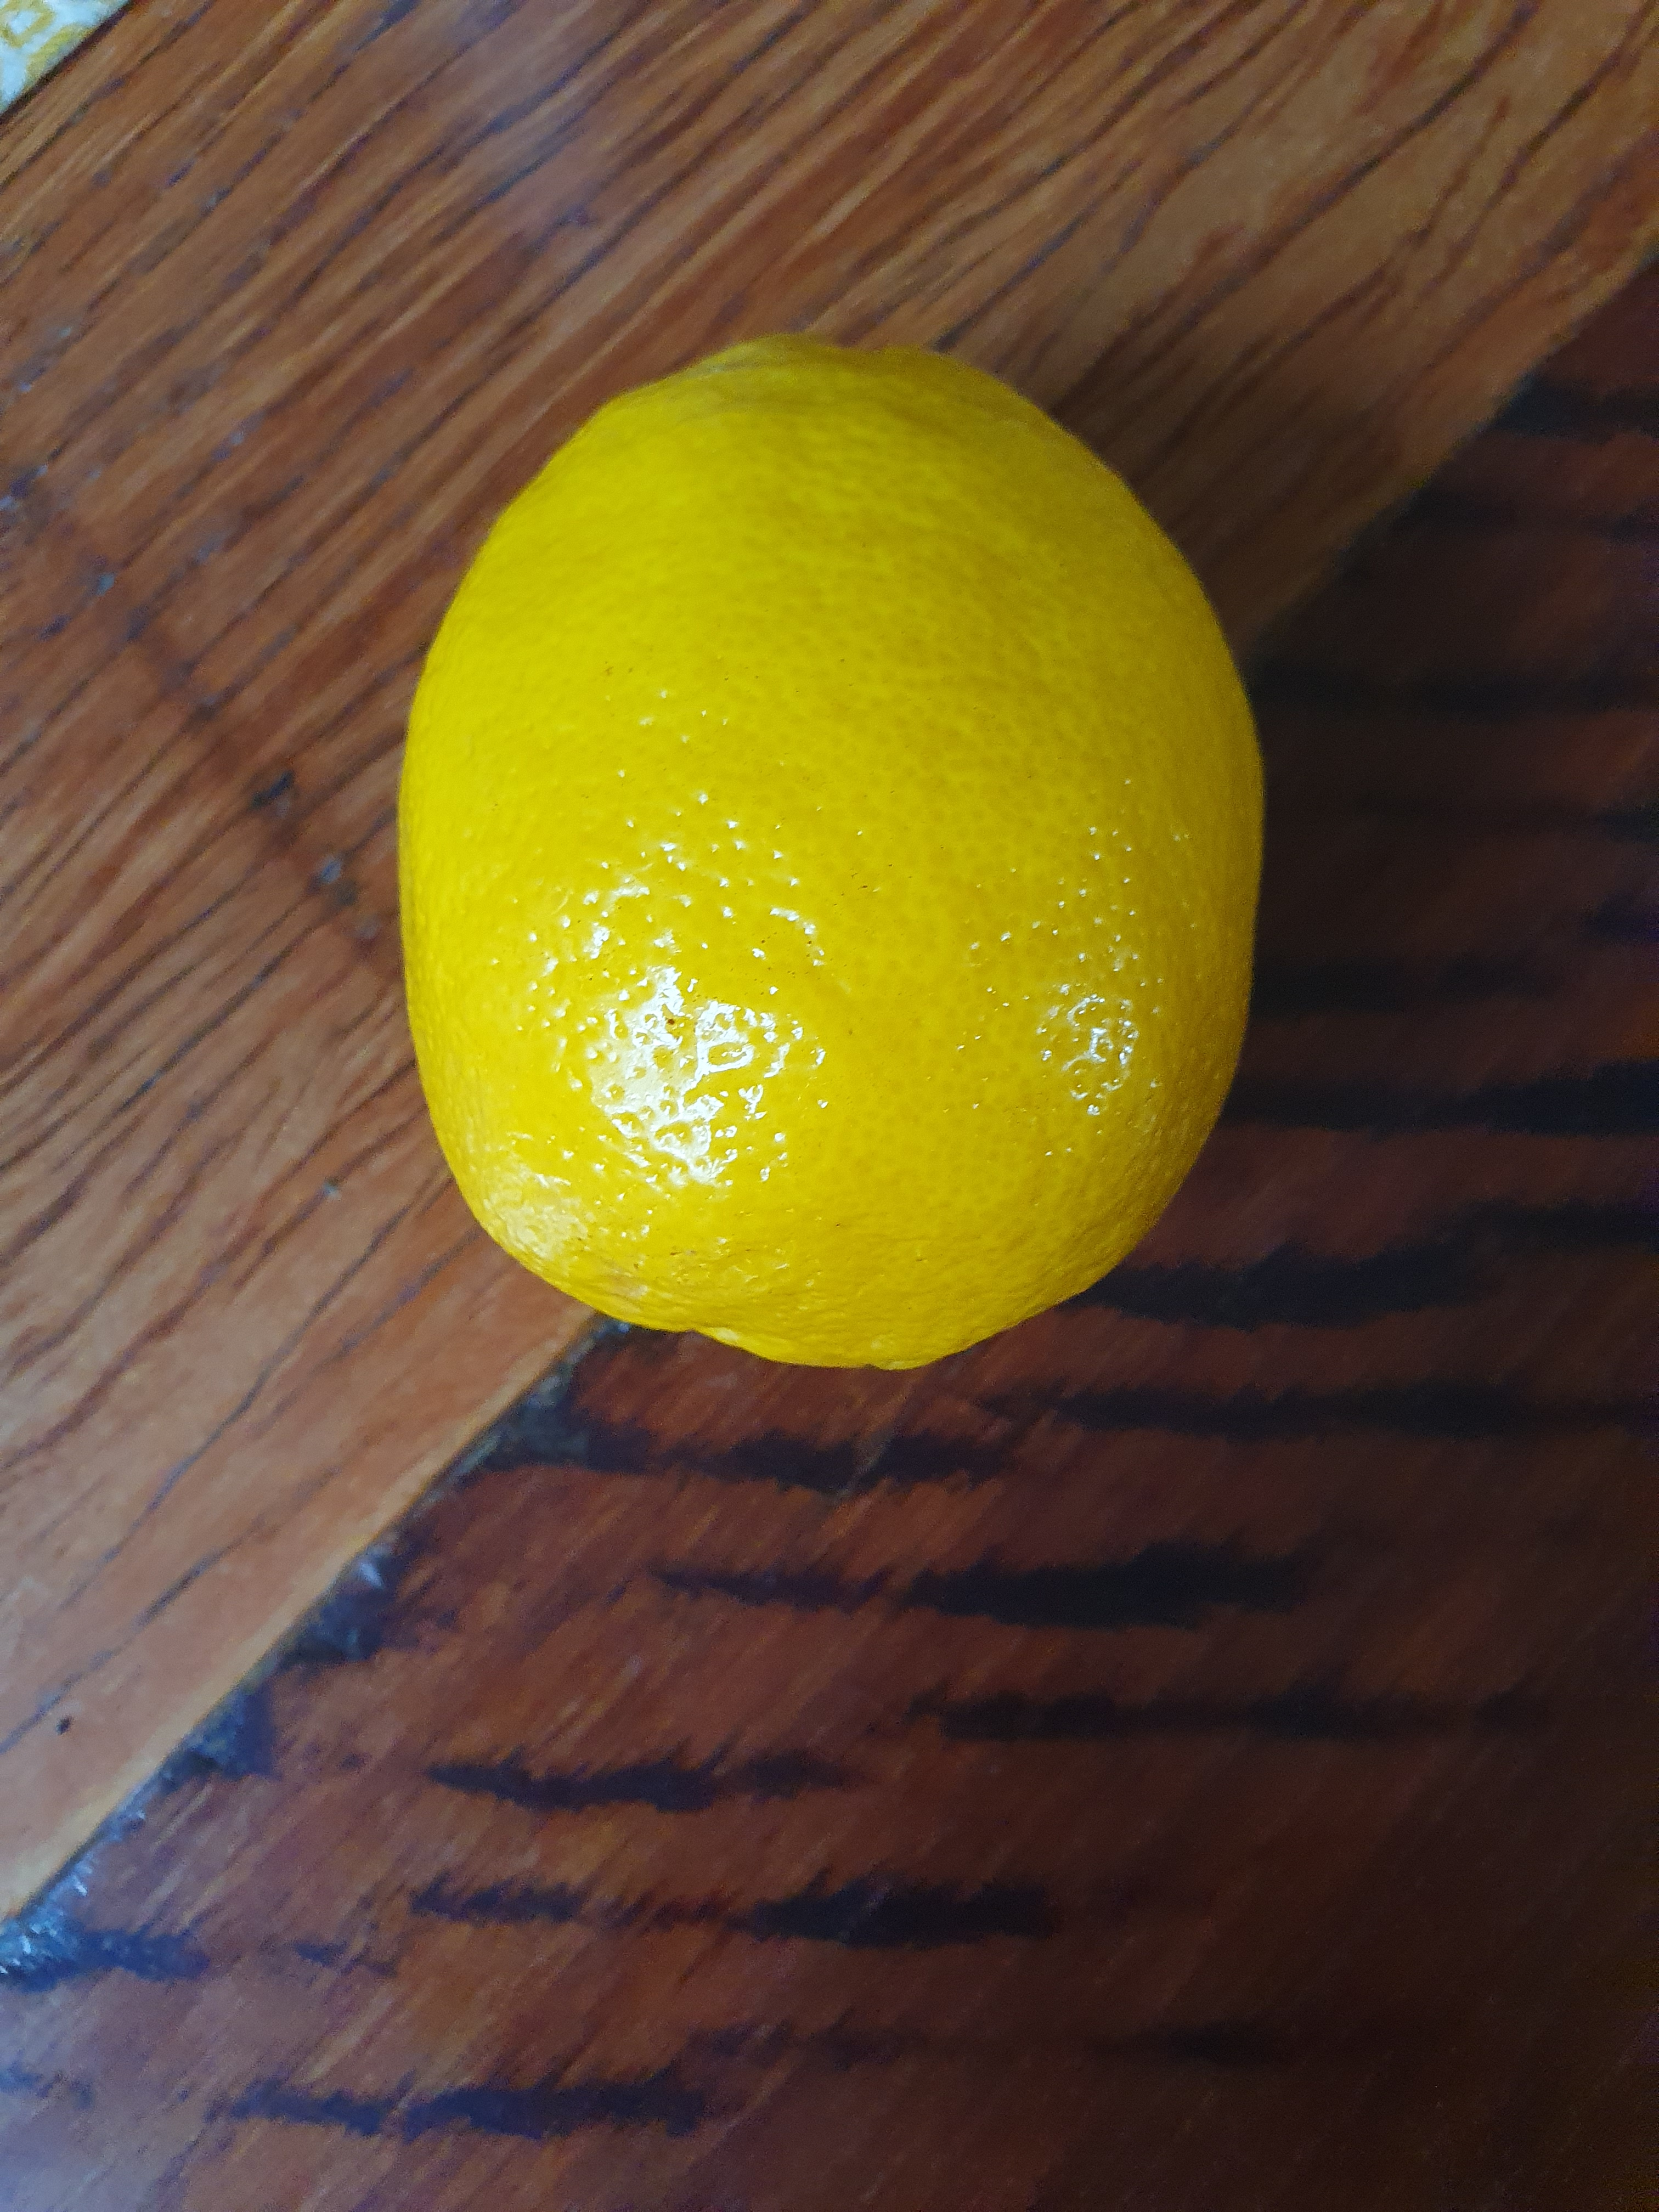lemon: (385, 266, 1279, 1406)
